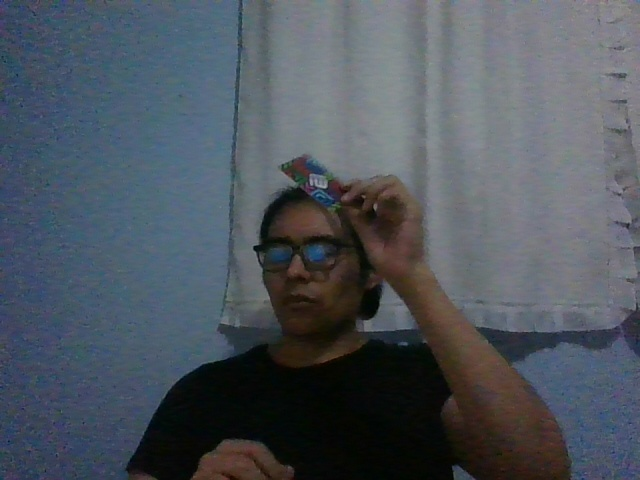tarjeta: (277, 153, 348, 214)
